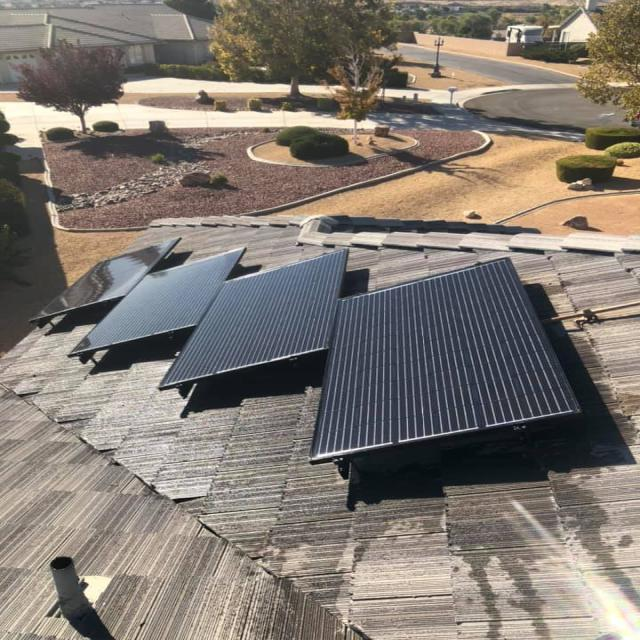clean-solar-panel: (310, 259, 580, 461), (160, 251, 347, 389)
